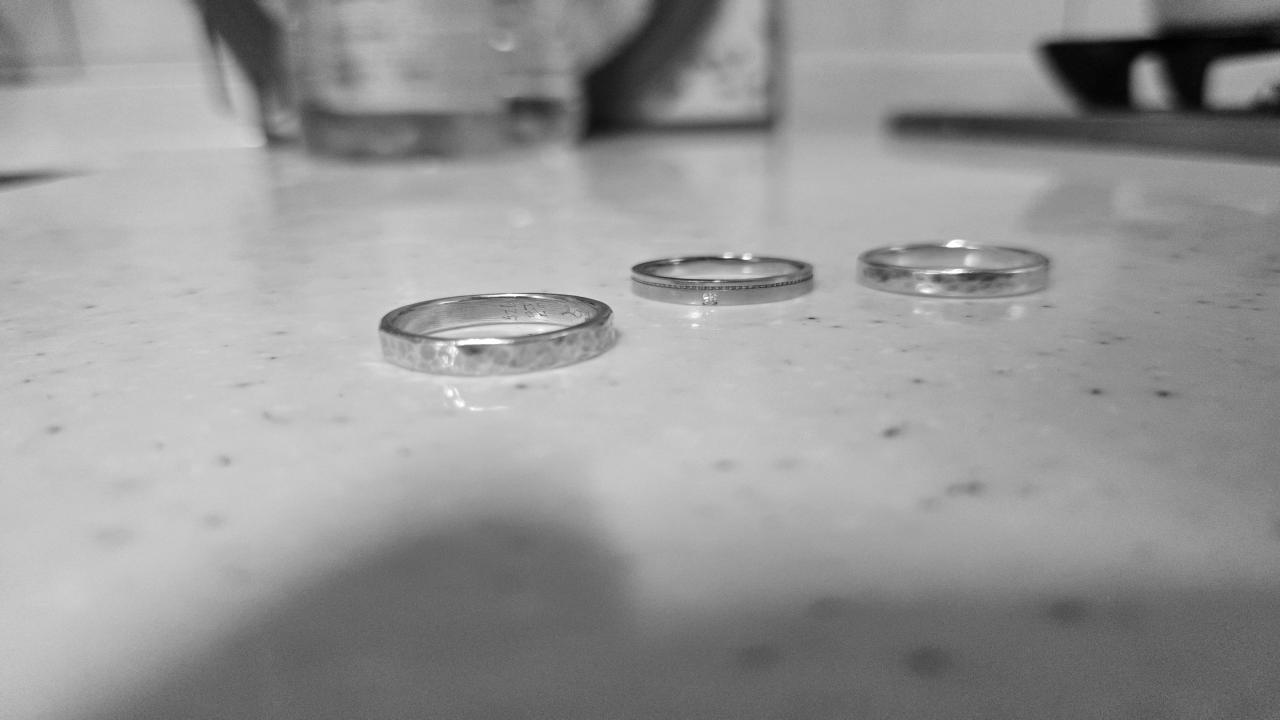ring: (378, 291, 618, 377), (855, 240, 1053, 299), (630, 253, 816, 306)
